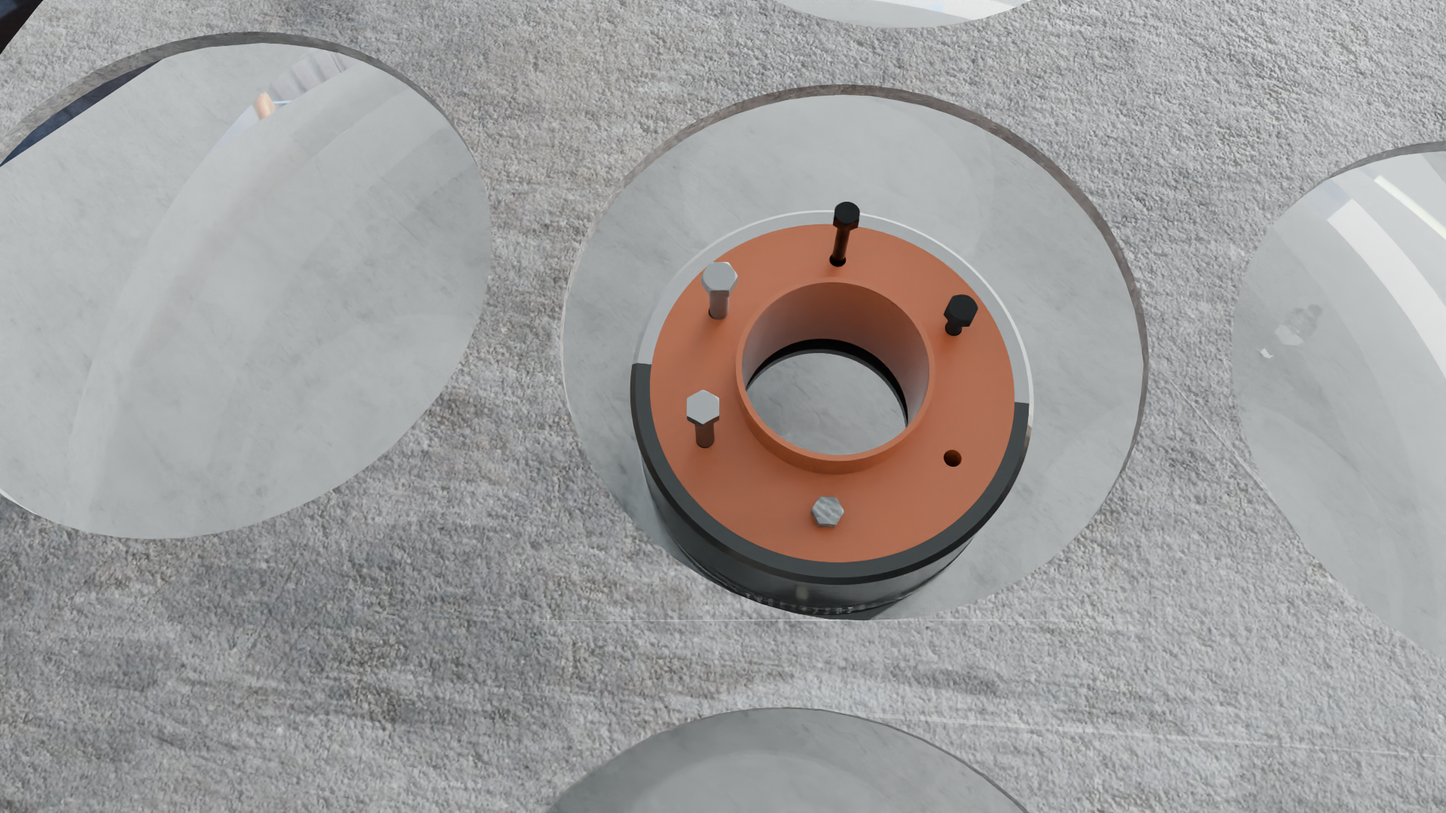bolt: (687, 390, 719, 425), (701, 262, 738, 291), (812, 497, 844, 525), (946, 294, 978, 321), (834, 202, 860, 227)
